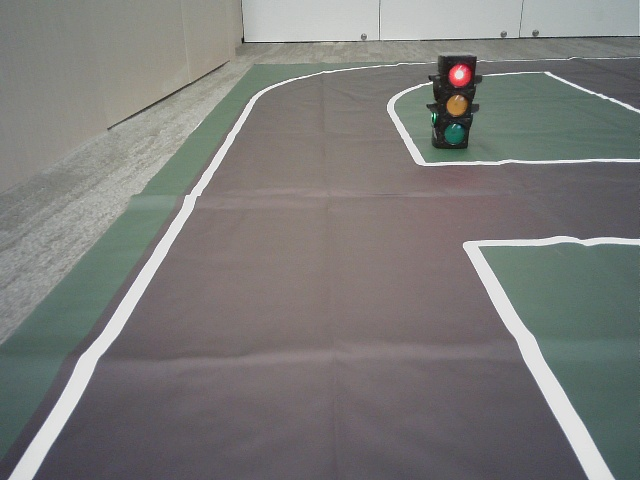red: (442, 58, 470, 145)
